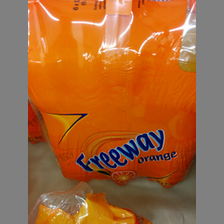soda: (29, 1, 195, 187)
